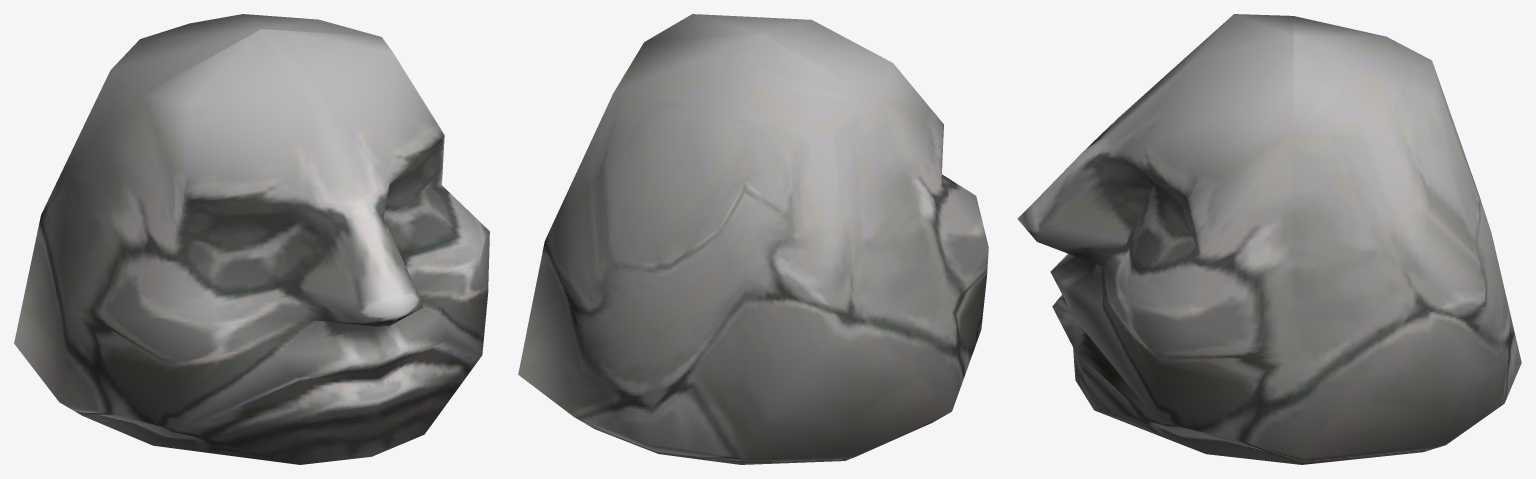
The model's file is ekao.obj.
The picture shows the model from 3 angles, left to right: view 1: azimuth 30°, elevation 25°; view 2: azimuth 150°, elevation 25°; view 3: azimuth 270°, elevation 25°; orthographic projection.
Visible parts, largest first — view 1: n0b0; view 2: n0b0; view 3: n0b0.
Part boxes in pixels (x1,y1,x2,y2): n0b0: [14, 14, 489, 464]; n0b0: [518, 14, 988, 464]; n0b0: [1017, 14, 1521, 464].
Bounding box in the file's own units: 31.92 × 27.53 × 35.83.
